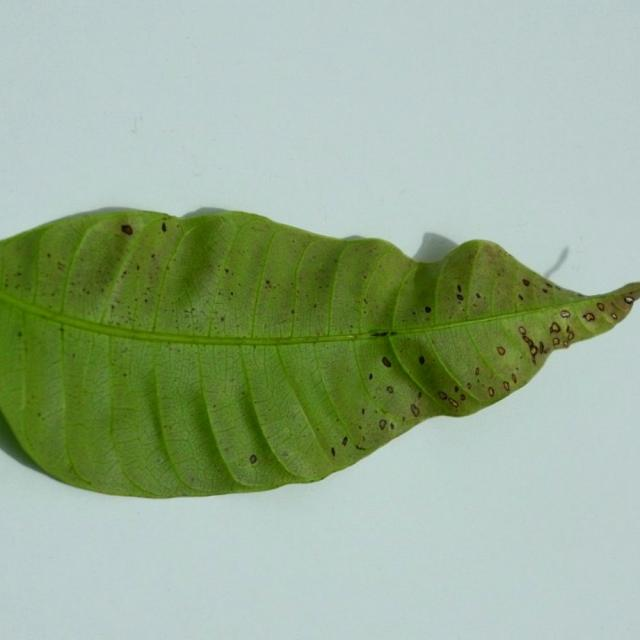Anthracnose: (90, 237, 167, 320), (458, 353, 506, 405), (570, 299, 624, 337), (518, 327, 559, 362), (15, 311, 26, 415), (544, 247, 570, 277), (437, 391, 459, 409), (482, 244, 496, 256), (549, 322, 561, 334), (279, 426, 291, 437), (410, 404, 420, 417), (370, 331, 391, 337), (381, 356, 392, 367), (583, 312, 595, 322), (121, 225, 133, 235), (264, 280, 275, 290), (252, 398, 267, 405), (57, 261, 66, 271), (496, 346, 505, 356), (379, 419, 387, 430), (624, 296, 635, 304), (596, 302, 605, 311), (438, 391, 447, 400), (560, 310, 570, 318), (249, 454, 257, 464), (632, 293, 640, 303), (544, 282, 555, 289), (518, 326, 526, 335), (341, 436, 348, 446), (355, 444, 366, 450), (386, 386, 394, 394), (418, 356, 425, 365), (161, 222, 167, 232), (456, 294, 464, 301), (522, 279, 530, 286), (331, 447, 336, 457), (577, 293, 587, 298), (424, 306, 431, 313), (281, 451, 288, 458), (417, 391, 423, 399), (457, 284, 462, 293), (475, 367, 480, 376), (347, 334, 356, 339), (518, 294, 524, 301), (368, 373, 374, 380), (223, 446, 230, 452), (453, 386, 459, 393), (59, 326, 64, 334), (467, 382, 472, 390), (475, 293, 481, 299), (542, 288, 548, 294), (390, 422, 394, 430), (17, 331, 22, 337), (220, 316, 225, 322), (224, 268, 229, 274), (16, 272, 22, 277), (361, 408, 365, 415), (265, 280, 270, 285), (151, 253, 155, 259), (111, 304, 115, 310), (47, 253, 51, 258), (37, 412, 41, 417), (291, 309, 295, 314), (313, 303, 317, 308), (402, 416, 406, 421), (230, 292, 233, 296)
Mango: (0, 208, 639, 502)
